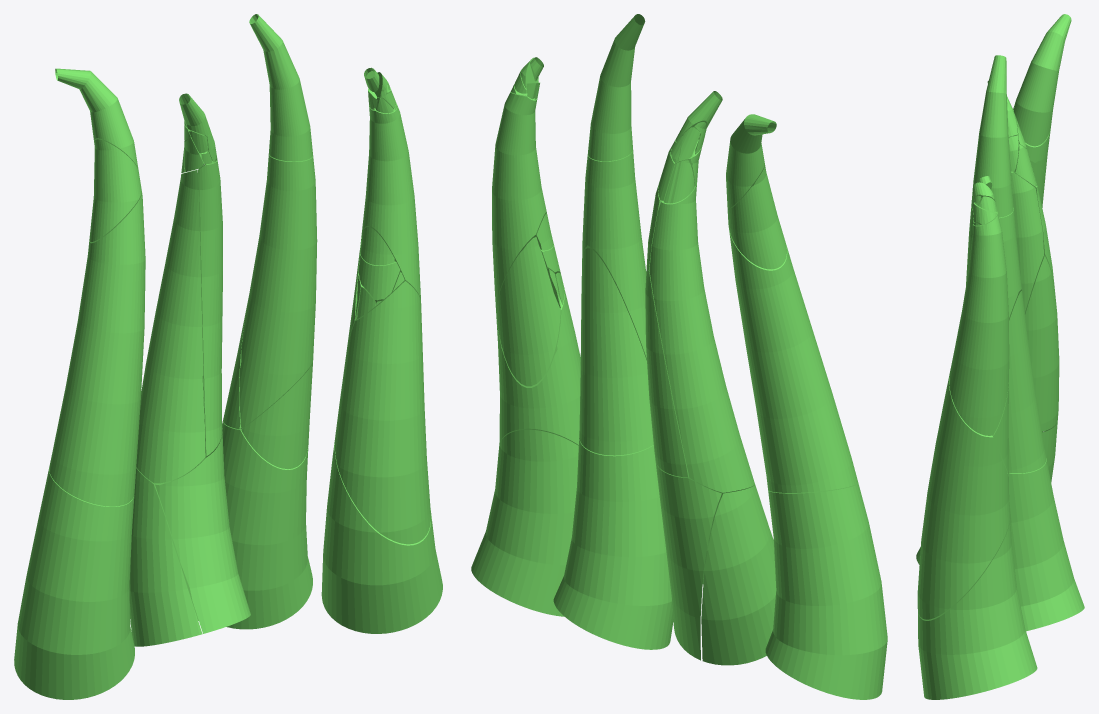
Rendered from fracturedplant.fbx.
The picture shows the model from 3 angles, left to right: view 1: azimuth 30°, elevation 25°; view 2: azimuth 150°, elevation 25°; view 3: azimuth 270°, elevation 25°; orthographic projection. The views are drawn at different scales.
Parts seen in each view (by area): view 1: BezierCurve.001_cell.018, BezierCurve.001_cell.011, BezierCurve.001_cell.003, BezierCurve.001_cell.017, BezierCurve.001_cell.002, BezierCurve.001_cell.021, BezierCurve.001_cell.009, BezierCurve.001_cell.022, BezierCurve.001_cell.007, BezierCurve.001_cell.012, BezierCurve.001_cell.004, BezierCurve.001_cell.019 (+7 smaller); view 2: BezierCurve.001_cell.018, BezierCurve.001_cell.021, BezierCurve.001_cell.011, BezierCurve.001_cell.002, BezierCurve.001_cell.009, BezierCurve.001_cell.010, BezierCurve.001_cell.007, BezierCurve.001_cell.017, BezierCurve.001_cell.012, BezierCurve.001_cell.022, BezierCurve.001_cell.006, BezierCurve.001_cell.003 (+6 smaller); view 3: BezierCurve.001_cell.003, BezierCurve.001_cell.009, BezierCurve.001_cell.012, BezierCurve.001_cell.021, BezierCurve.001_cell.010, BezierCurve.001_cell.001, BezierCurve.001_cell.019, BezierCurve.001_cell.023, BezierCurve.001_cell.004, BezierCurve.001_cell.017, BezierCurve.001_cell.006, BezierCurve.001_cell.022 (+7 smaller).
Boxes of the visible parts, left/top/right/bottom form: BezierCurve.001_cell.018: left=14, top=468, right=134, bottom=699; BezierCurve.001_cell.011: left=49, top=193, right=145, bottom=506; BezierCurve.001_cell.003: left=334, top=281, right=431, bottom=544; BezierCurve.001_cell.017: left=239, top=153, right=317, bottom=428; BezierCurve.001_cell.002: left=136, top=170, right=205, bottom=483; BezierCurve.001_cell.021: left=222, top=421, right=312, bottom=629; BezierCurve.001_cell.009: left=321, top=437, right=442, bottom=633; BezierCurve.001_cell.022: left=136, top=431, right=250, bottom=633; BezierCurve.001_cell.007: left=129, top=468, right=202, bottom=646; BezierCurve.001_cell.012: left=361, top=104, right=420, bottom=299; BezierCurve.001_cell.004: left=198, top=160, right=222, bottom=456; BezierCurve.001_cell.019: left=249, top=14, right=312, bottom=161; BezierCurve.001_cell.018: left=765, top=482, right=887, bottom=699; BezierCurve.001_cell.021: left=553, top=438, right=673, bottom=649; BezierCurve.001_cell.011: left=729, top=229, right=857, bottom=492; BezierCurve.001_cell.002: left=649, top=181, right=754, bottom=492; BezierCurve.001_cell.009: left=471, top=429, right=578, bottom=616; BezierCurve.001_cell.010: left=579, top=248, right=653, bottom=455; BezierCurve.001_cell.007: left=701, top=485, right=776, bottom=665; BezierCurve.001_cell.017: left=582, top=150, right=646, bottom=360; BezierCurve.001_cell.012: left=492, top=92, right=546, bottom=310; BezierCurve.001_cell.022: left=655, top=460, right=757, bottom=660; BezierCurve.001_cell.006: left=496, top=237, right=560, bottom=386; BezierCurve.001_cell.003: left=496, top=284, right=580, bottom=447; BezierCurve.001_cell.003: left=917, top=378, right=1010, bottom=619; BezierCurve.001_cell.009: left=918, top=518, right=1037, bottom=699; BezierCurve.001_cell.012: left=949, top=213, right=1009, bottom=435; BezierCurve.001_cell.021: left=1007, top=458, right=1084, bottom=631; BezierCurve.001_cell.010: left=1007, top=291, right=1046, bottom=473; BezierCurve.001_cell.001: left=1025, top=256, right=1059, bottom=431; BezierCurve.001_cell.019: left=971, top=55, right=1013, bottom=217; BezierCurve.001_cell.023: left=1014, top=14, right=1071, bottom=146; BezierCurve.001_cell.004: left=1011, top=171, right=1043, bottom=314; BezierCurve.001_cell.017: left=966, top=207, right=1021, bottom=320; BezierCurve.001_cell.006: left=993, top=383, right=1008, bottom=474; BezierCurve.001_cell.022: left=916, top=419, right=1057, bottom=564.
Size of the model in its own units: 121 by 178 by 45.94.
